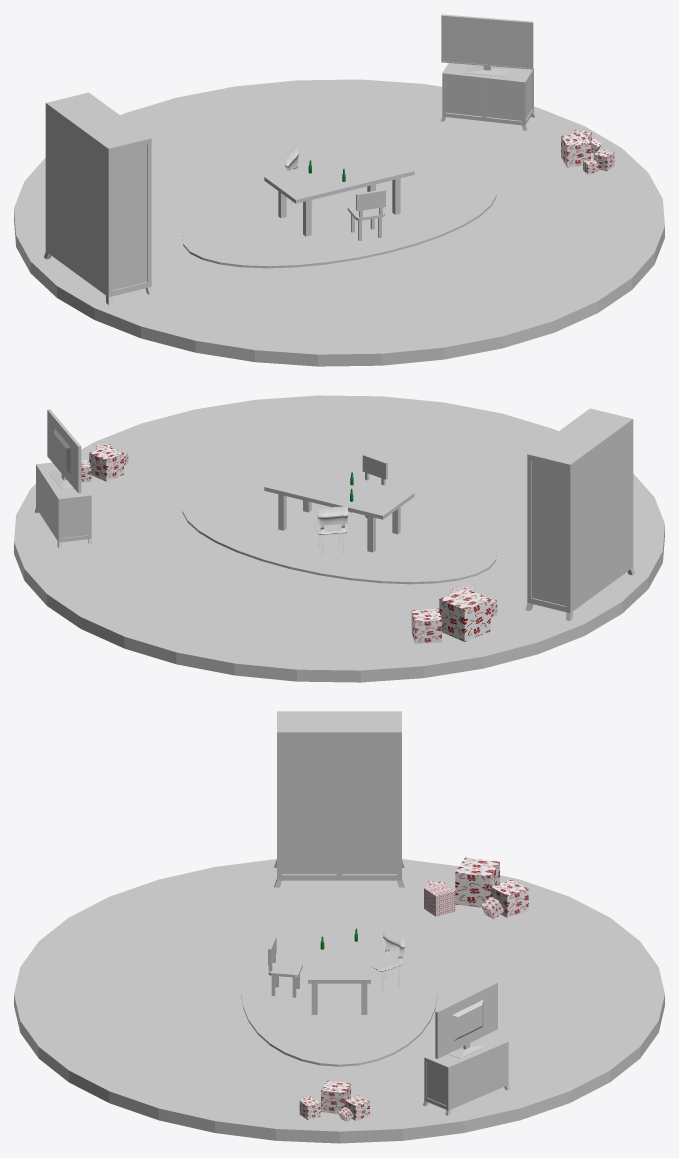
The model's file is world_mockup_v1.glb.
3 renders of one model, top to bottom at view 1: azimuth 30°, elevation 25°; view 2: azimuth 150°, elevation 25°; view 3: azimuth 270°, elevation 25°, orthographic.
Parts seen in each view (by area): view 1: Cylinder, Closet, Carpet, Table, TV, Cabinet 1, Chair, Cube.009; view 2: Cylinder, Carpet, Closet, Table, Cabinet 1, Cube, TV, Chair2, Cube.001, Cube.009, Chair; view 3: Cylinder, Closet, Carpet, Cabinet 1, Table, TV, Cube, Chair2, Cube.001, Chair, Cube.003, Cube.009.
Boxes of the visible parts, x1,y1,x2,y2 form: Cylinder: (14,79,664,366); Closet: (44,92,153,304); Carpet: (182,163,496,268); Table: (264,148,414,236); TV: (441,14,533,76); Cabinet 1: (440,63,535,130); Chair: (347,189,385,240); Cube.009: (561,133,590,167); Cylinder: (14,395,664,682); Carpet: (182,479,496,584); Closet: (525,408,634,620); Table: (264,464,414,552); Cabinet 1: (35,462,92,547); Cube: (439,588,490,641); TV: (47,409,81,493); Chair2: (313,506,347,555); Cube.001: (411,608,441,643); Cube.009: (89,445,123,481); Chair: (349,454,387,517); Cylinder: (14,859,664,1143); Closet: (274,711,404,887); Carpet: (241,919,437,1066); Cabinet 1: (422,1033,509,1115); Table: (308,922,370,1014); TV: (435,982,497,1058); Cube: (455,857,499,907); Chair2: (367,929,404,992); Cube.001: (490,880,528,917); Chair: (268,936,302,997); Cube.003: (424,883,455,916); Cube.009: (321,1080,350,1113).
Bounding box in the file's own units: 20.58 × 5.82 × 20.58.
Materials: 3 (1 with a texture image).
